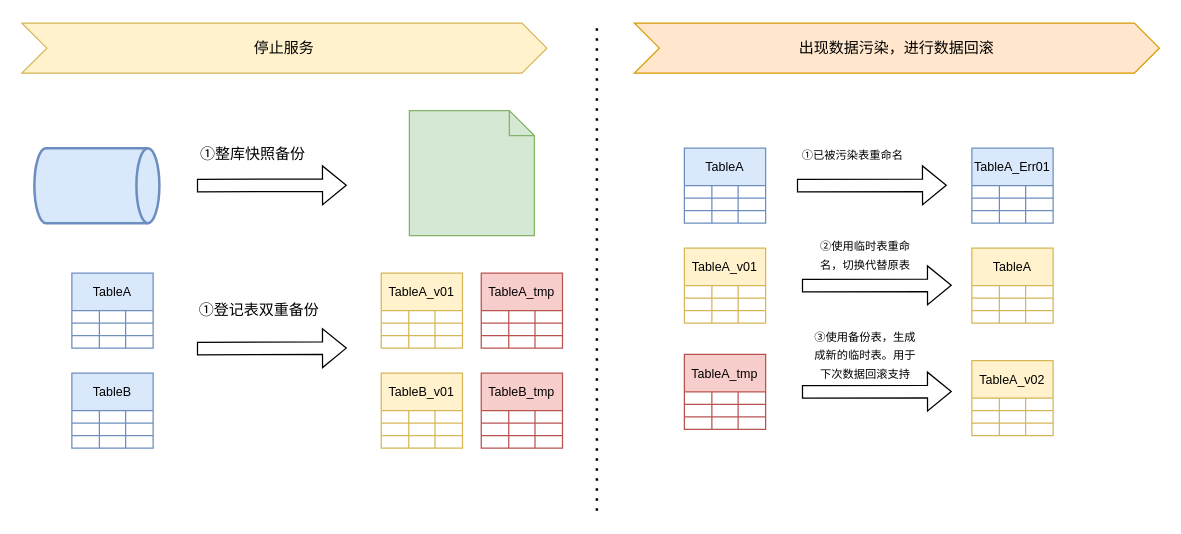
This 1181x534 diagram has some shape labels left out. Here are the shapes that lost their labels. From the top down, the centre of each, then its label:
At point (96, 185): "DB".
At point (471, 172): "BinLog 备份文件".
